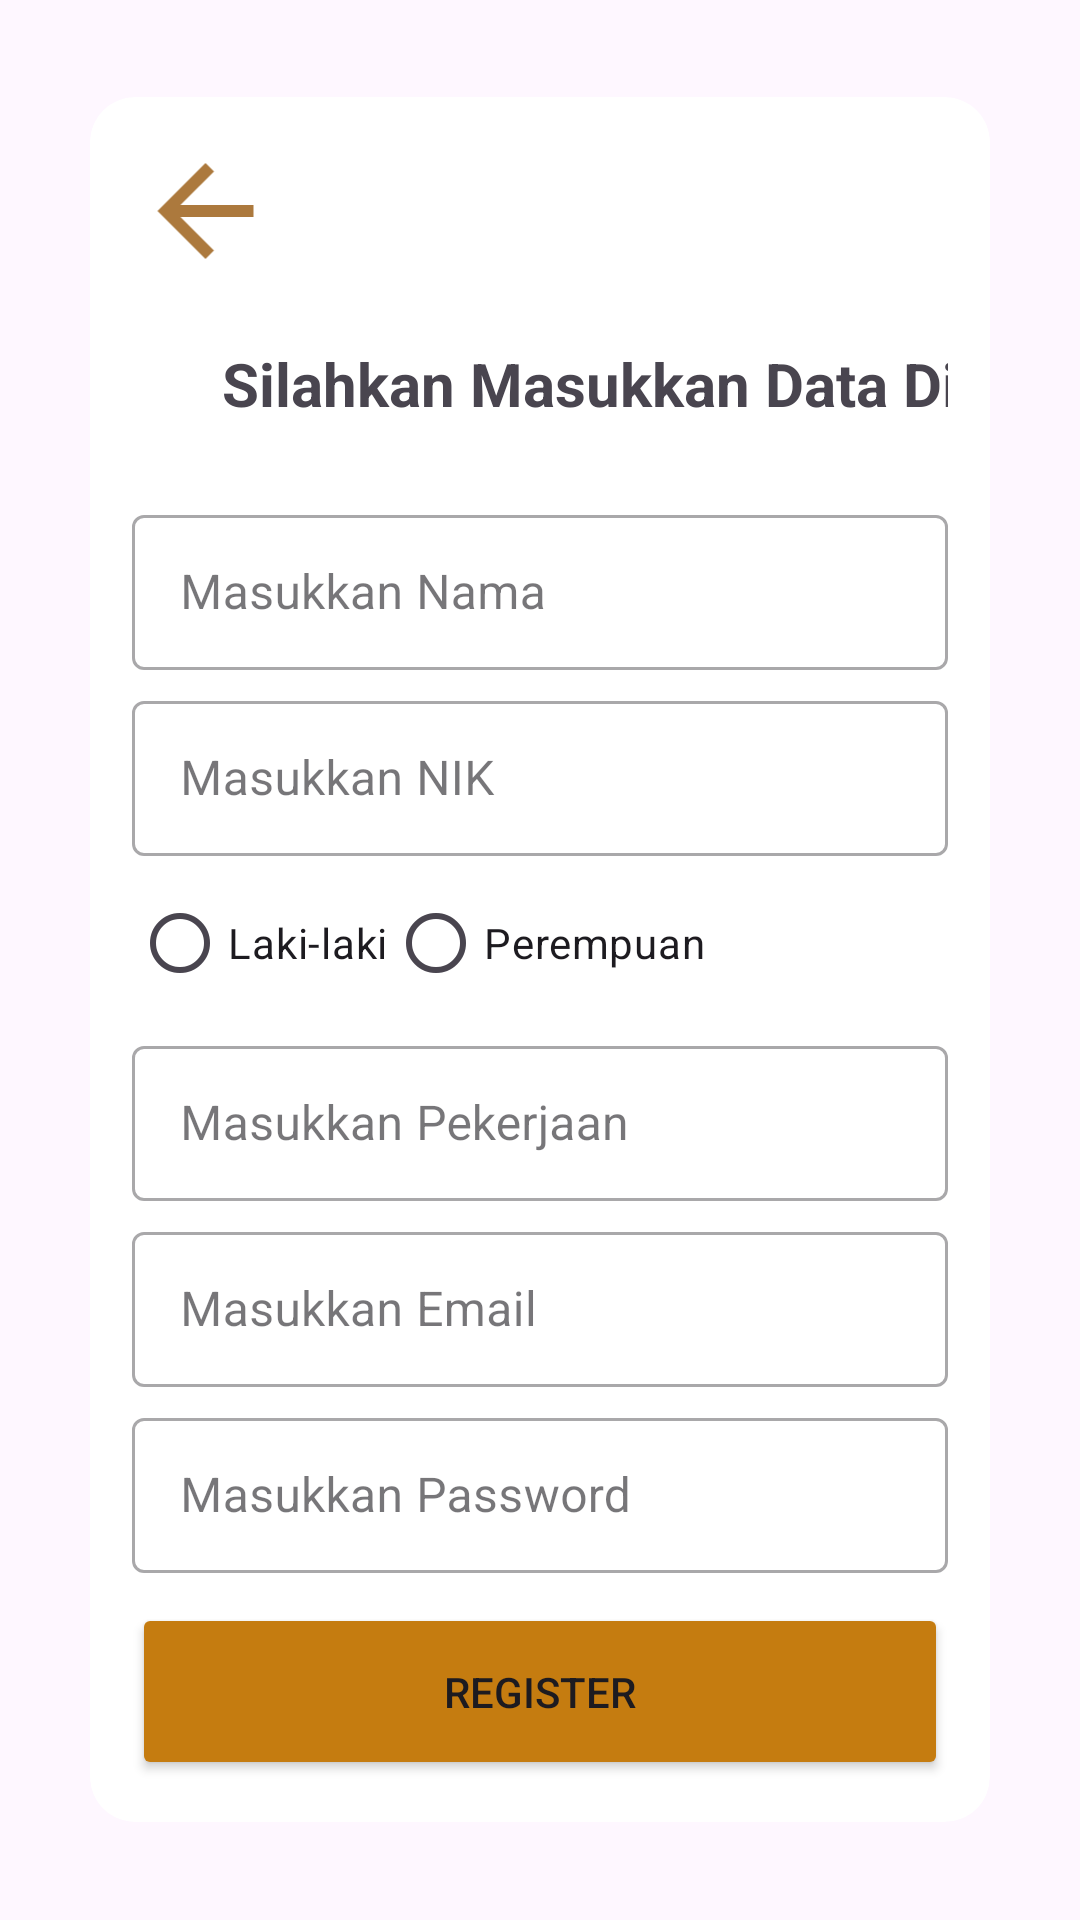

Icons on this 1080px×1920px Android screen, each with the point to tap as (x=x, y=y):
arrow back: (x=205, y=211)
